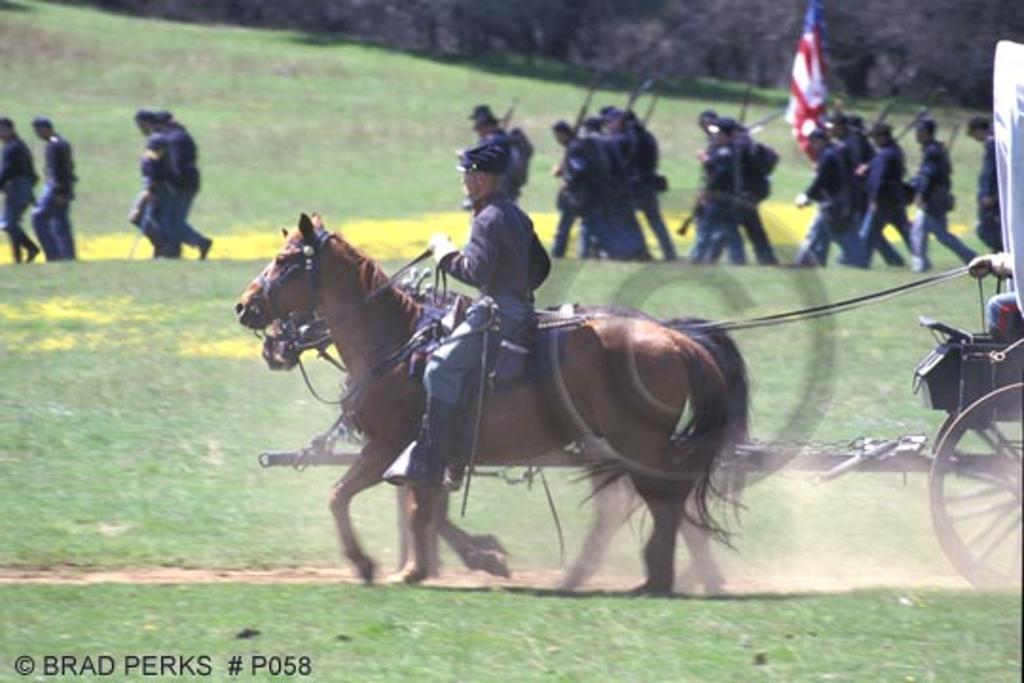face: (463, 168, 489, 196)
